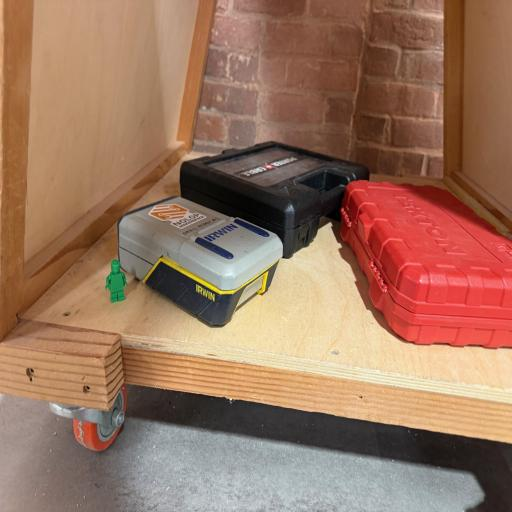Lego-Dude: (105, 259, 128, 302)
